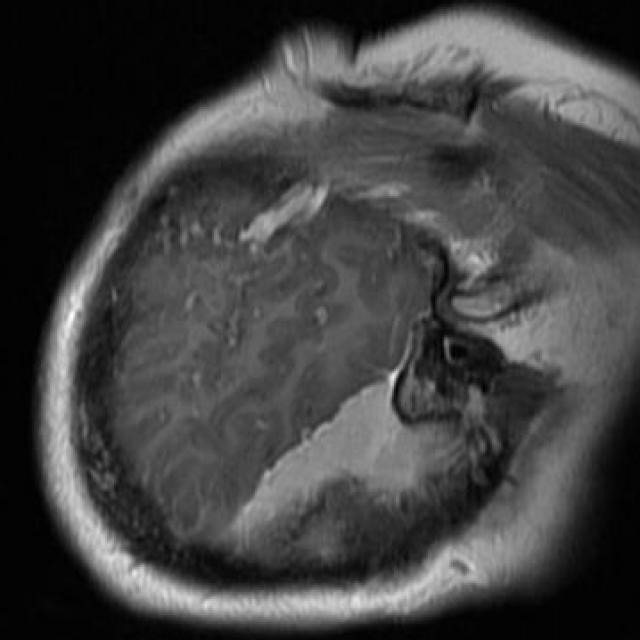meningioma: (234, 380, 447, 551)
